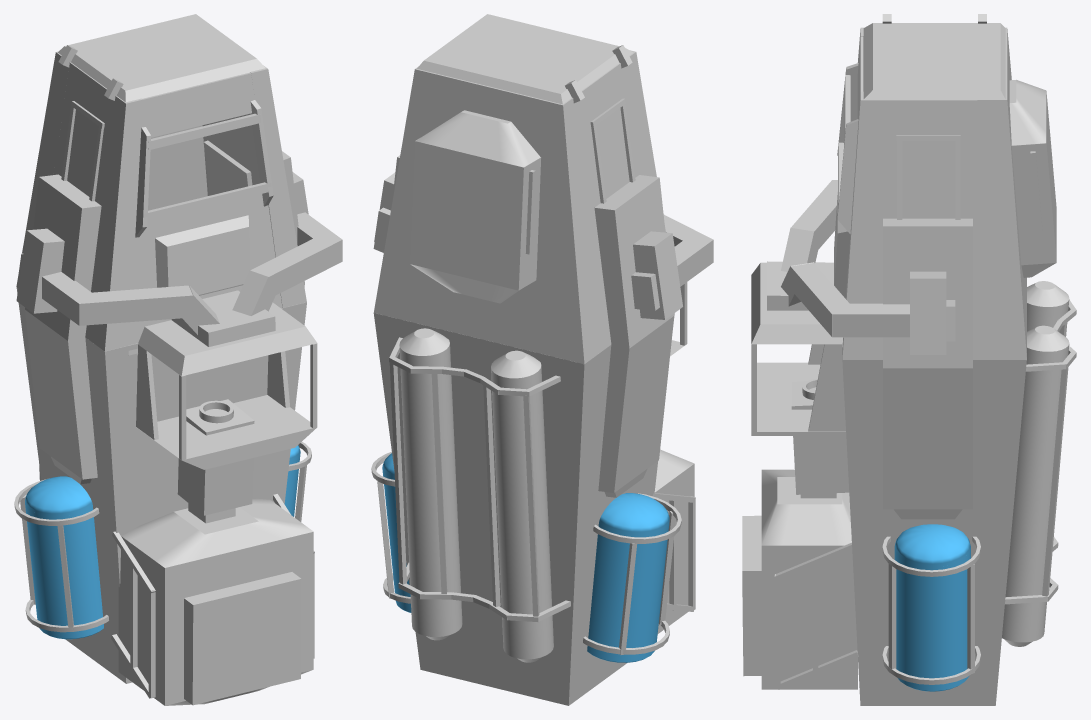
Rendered from Drood Organic Classification and Recycling Device.fbx.
3 renders of one model, left to right at view 1: azimuth 30°, elevation 25°; view 2: azimuth 150°, elevation 25°; view 3: azimuth 270°, elevation 25°, orthographic. The views are drawn at different scales.
Parts seen in each view (by area): view 1: object 2_mesh.001; view 2: object 2_mesh.001; view 3: object 2_mesh.001.
Part boxes in pixels (x1,y1,x2,y2): object 2_mesh.001: (14,14,342,705); object 2_mesh.001: (371,14,713,705); object 2_mesh.001: (742,14,1076,705).
Size of the model in its own units: 95.1 by 190 by 92.58.
